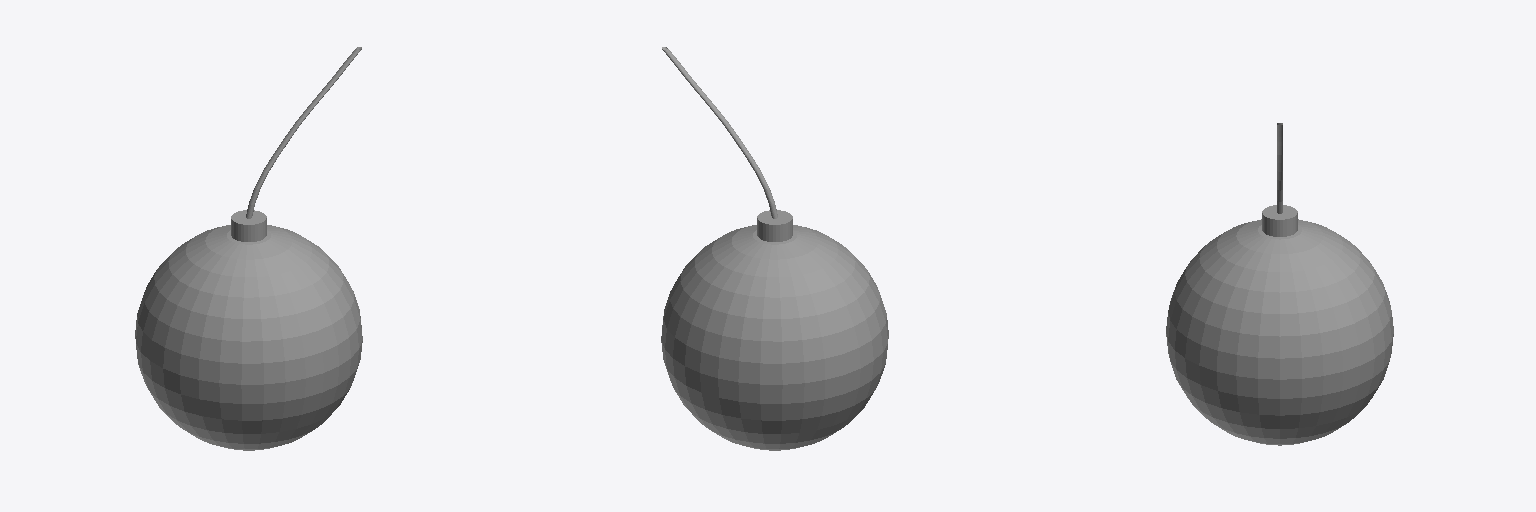
The model's file is bomb1.obj.
The picture shows the model from 3 angles: view 1: azimuth 30°, elevation 25°; view 2: azimuth 150°, elevation 25°; view 3: azimuth 270°, elevation 25°; orthographic projection.
Visible parts, largest first — view 1: Sphere, Cylinder.001_Cylinder.002, Cylinder; view 2: Sphere, Cylinder.001_Cylinder.002, Cylinder; view 3: Sphere, Cylinder, Cylinder.001_Cylinder.002.
Boxes of the visible parts, box(x1,y1,x2,y2) form: Sphere: box(135, 225, 362, 450); Cylinder.001_Cylinder.002: box(246, 47, 361, 218); Cylinder: box(231, 210, 266, 241); Sphere: box(661, 225, 888, 450); Cylinder.001_Cylinder.002: box(662, 47, 777, 218); Cylinder: box(757, 210, 792, 241); Sphere: box(1166, 219, 1393, 445); Cylinder: box(1262, 205, 1297, 236); Cylinder.001_Cylinder.002: box(1277, 123, 1282, 213).
Bounding box in the file's own units: 2.14 × 3.53 × 2.